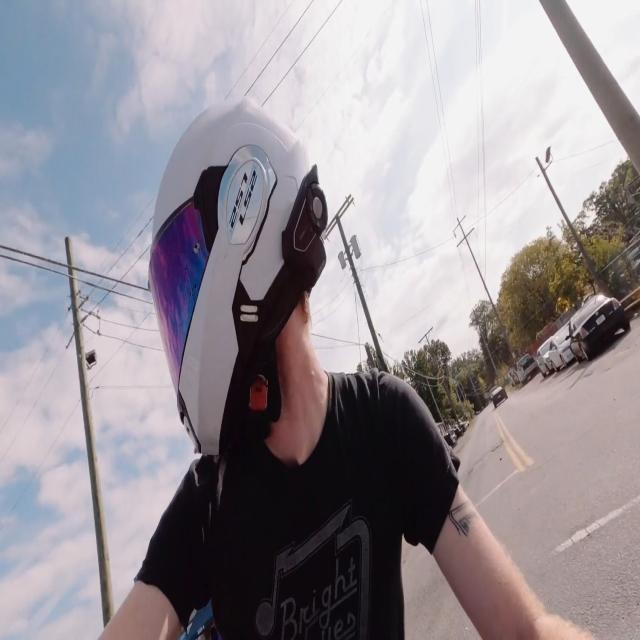Helmet_Wearer: (149, 76, 333, 505)
Person: (86, 84, 545, 640)
